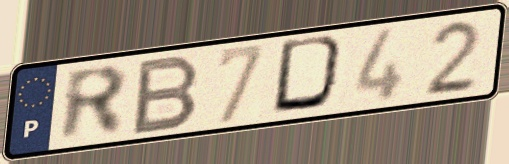2: (422, 18, 486, 99)
4: (352, 24, 411, 106)
7: (214, 43, 271, 125)
B: (127, 51, 203, 138)
D: (269, 32, 353, 116)
R: (58, 63, 130, 146)
